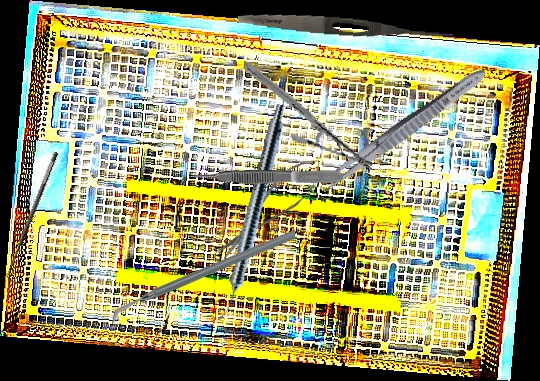Chopper: (112, 230, 295, 324)
Dressing Forceps: (315, 63, 491, 198), (237, 9, 455, 44)
Handpiece: (215, 101, 289, 325)
Hook Surgical: (0, 150, 69, 287)
Micro Scissor: (208, 147, 332, 269)
Needle Holder: (229, 61, 387, 170)
Tissue Forceps: (191, 166, 344, 186)
